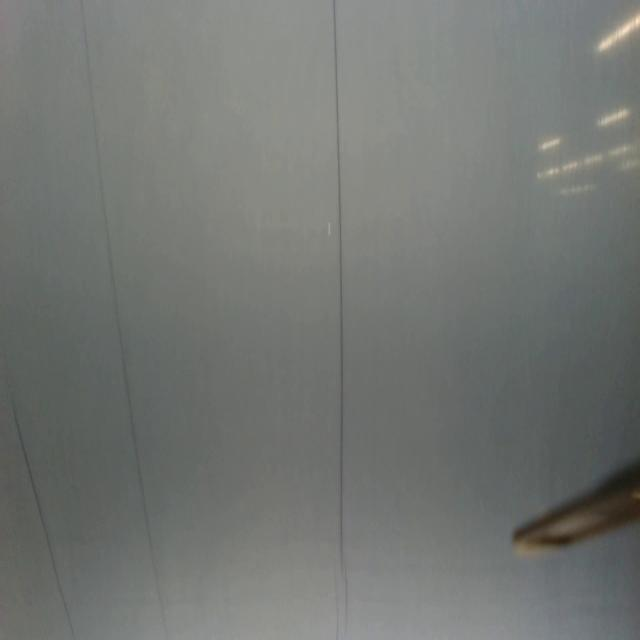crease: (79, 1, 169, 640), (12, 400, 76, 640), (331, 0, 350, 636)
hole: (327, 219, 332, 236)
